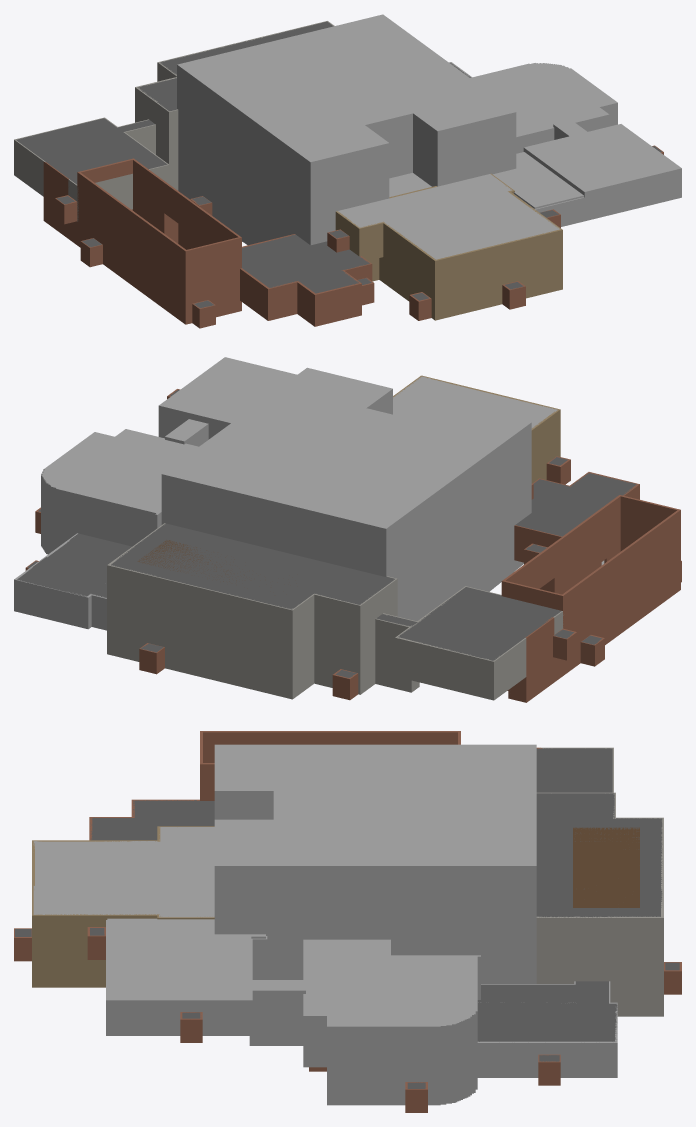
File: kino.glb
3 renders of one model, top to bottom at view 1: azimuth 30°, elevation 25°; view 2: azimuth 150°, elevation 25°; view 3: azimuth 270°, elevation 25°, orthographic. The views are drawn at different scales.
Visible parts, largest first — view 1: plaster_theater__parterre__wall, vault_theater__parterre__ceil, brick__ruelle__wall, wall_lobby__hall__wall, ceiling_theater__hall__ceil, ceiling_theater__salle_portraits__ceil, ceiling_theater__foyer__ceil, ceiling__salle_basse__ceil, vault_theater__avant_scene__ceil, brick__salle_basse__wall, ceiling__arriere_salle__ceil, wall_foyer__salle_portraits__wall (+21 smaller); view 2: vault_theater__parterre__ceil, wall__coulisses__wall, brick__ruelle__wall, plaster_theater__parterre__wall, plaster_theater__avant_scene__wall, ceiling__coulisses__ceil, ceiling_theater__foyer__ceil, ceiling__arriere_salle__ceil, wall__aile_ouest__wall, wall__arriere_salle__wall, vault_theater__avant_scene__ceil, wall_foyer__foyer__wall (+19 smaller); view 3: vault_theater__parterre__ceil, plaster_theater__parterre__wall, wall_foyer__foyer__wall, wall__coulisses__wall, ceiling_theater__foyer__ceil, ceiling_theater__hall__ceil, ceiling_theater__salle_portraits__ceil, plaster_theater__avant_scene__wall, ceiling__coulisses__ceil, vault_theater__avant_scene__ceil, wall_lobby__hall__wall, ceiling__loges__ceil (+17 smaller).
Boxes of the visible parts, box(x1,y1,x2,y2) form: plaster_theater__parterre__wall: box(200, 31, 516, 245); vault_theater__parterre__ceil: box(203, 32, 514, 161); brick__ruelle__wall: box(77, 158, 241, 324); wall_lobby__hall__wall: box(379, 192, 562, 320); ceiling_theater__hall__ceil: box(380, 192, 560, 259); ceiling_theater__salle_portraits__ceil: box(527, 125, 679, 190); ceiling_theater__foyer__ceil: box(471, 63, 614, 126); ceiling__salle_basse__ceil: box(242, 234, 369, 293); vault_theater__avant_scene__ceil: box(179, 16, 403, 80); brick__salle_basse__wall: box(240, 234, 372, 326); ceiling__arriere_salle__ceil: box(16, 118, 167, 184); wall_foyer__salle_portraits__wall: box(523, 124, 681, 220); vault_theater__parterre__ceil: box(189, 368, 527, 509); wall__coulisses__wall: box(107, 523, 314, 699); brick__ruelle__wall: box(501, 495, 680, 674); plaster_theater__parterre__wall: box(188, 367, 531, 621); plaster_theater__avant_scene__wall: box(161, 455, 411, 619); ceiling__coulisses__ceil: box(111, 523, 348, 609); ceiling_theater__foyer__ceil: box(44, 433, 187, 512); ceiling__arriere_salle__ceil: box(397, 587, 561, 660); wall__aile_ouest__wall: box(313, 576, 397, 694); wall__arriere_salle__wall: box(395, 586, 563, 700); vault_theater__avant_scene__ceil: box(164, 456, 409, 527); wall_foyer__foyer__wall: box(41, 432, 161, 554); vault_theater__parterre__ceil: box(216, 745, 479, 865); plaster_theater__parterre__wall: box(214, 744, 481, 979); wall_foyer__foyer__wall: box(327, 955, 480, 1105); wall__coulisses__wall: box(536, 817, 663, 1016); ceiling_theater__foyer__ceil: box(328, 956, 476, 1026); ceiling_theater__hall__ceil: box(33, 841, 168, 914); ceiling_theater__salle_portraits__ceil: box(107, 943, 251, 999); plaster_theater__avant_scene__wall: box(478, 744, 536, 983); ceiling__coulisses__ceil: box(536, 818, 662, 917); vault_theater__avant_scene__ceil: box(480, 745, 535, 865); wall_lobby__hall__wall: box(32, 840, 158, 987); ceiling__loges__ceil: box(477, 1003, 617, 1041).
Size of what is drawn, in the model's own units: 98.09 by 24.28 by 91.99.
